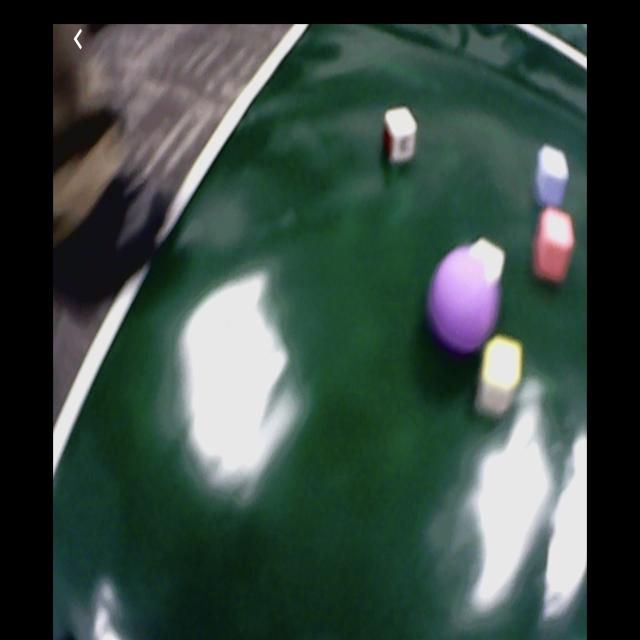ball: (435, 251, 498, 346)
